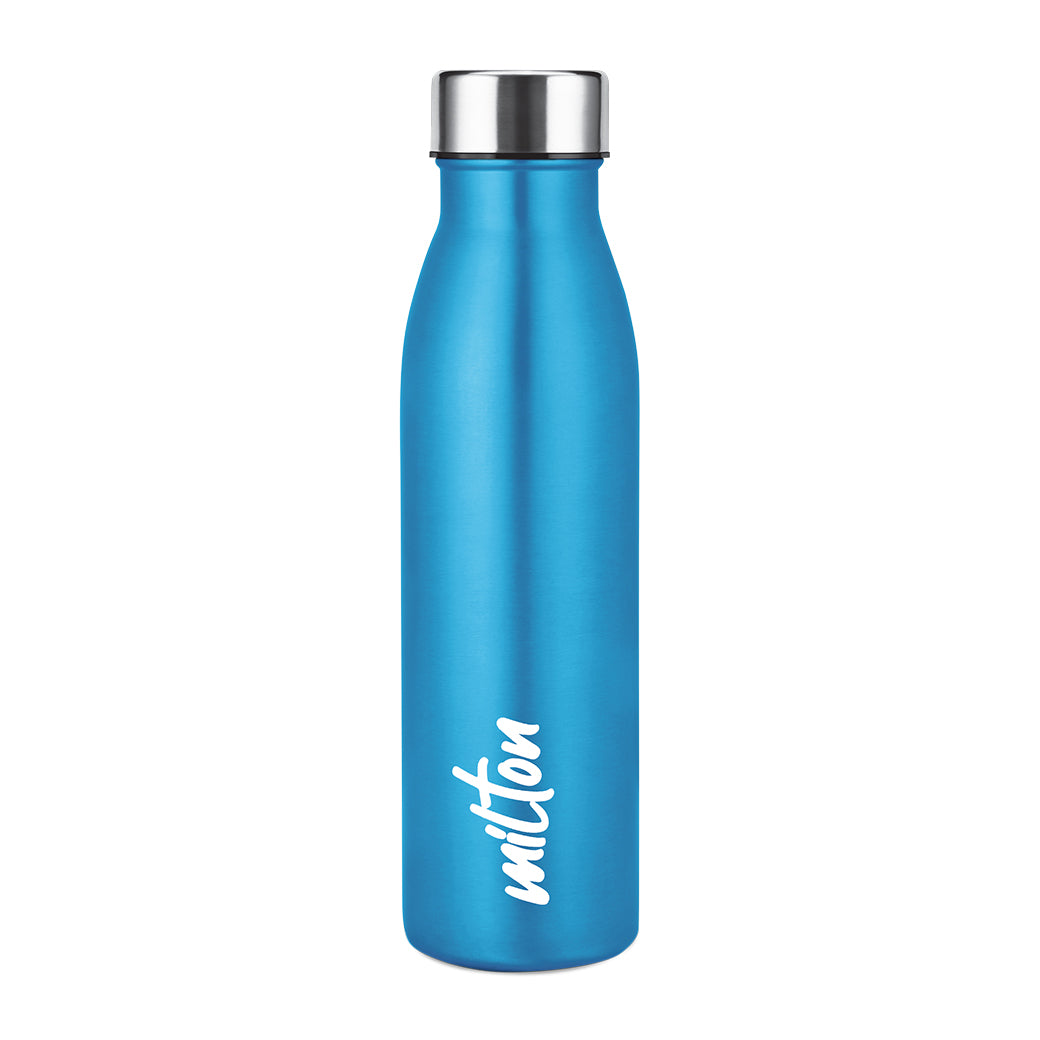bottle: (394, 59, 687, 969)
